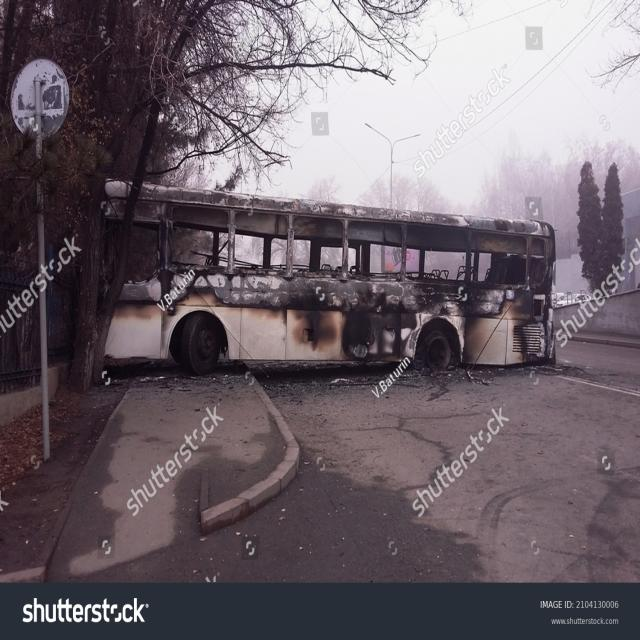Accident: (89, 164, 560, 406)
